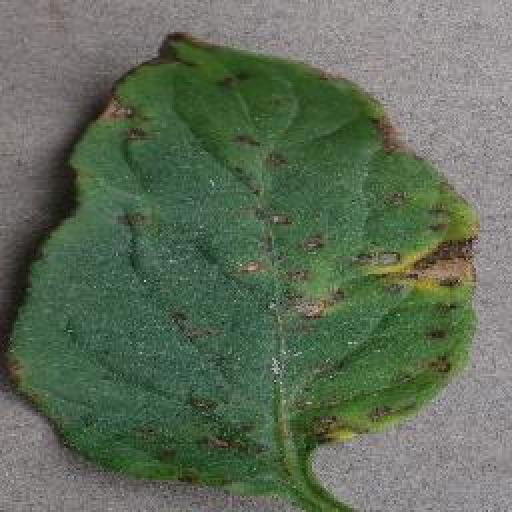Bacterial Spot: (0, 24, 483, 496)
